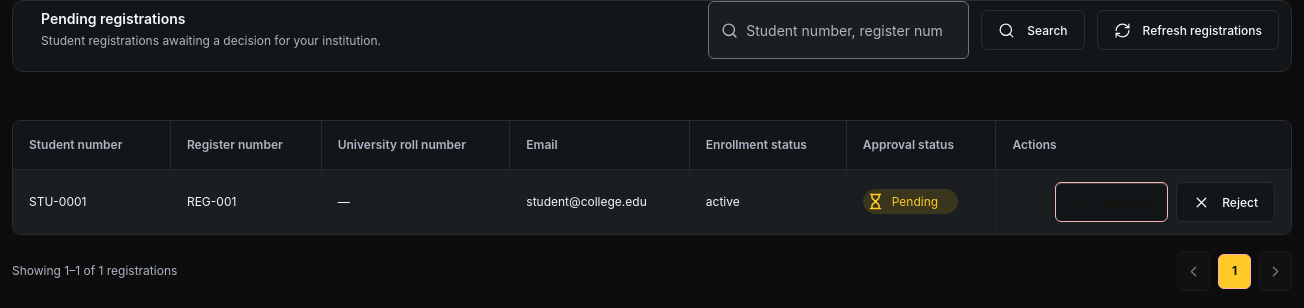
StaffApprovals decisions › refreshes the queue when another approver already decided (409)
Expected: the text "STU-0001" is shown, [13,169,171,234]
Click the button "Approve": (1112, 202) [1055,182,1168,222]
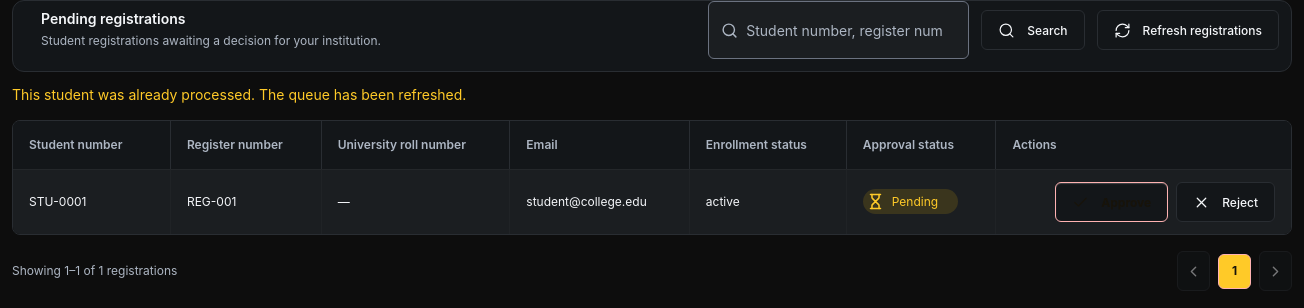
Expected: the text "This student was already processed. The queue has been refreshed." is shown, [12,86,466,103]
